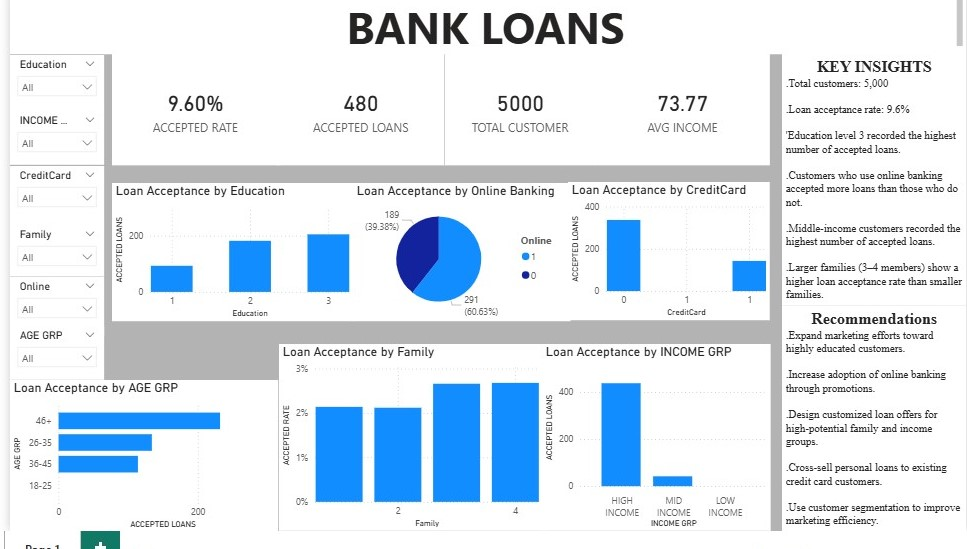

What the dashboard file says about the page in this screenshot:
{"tool":"powerbi","page":{"name":"Page 1","canvas":[1280,720],"ordinal":0},"visuals":[{"type":"card","fields":{"Values":["Data.TOTAL CUSTOMER"]},"box":[582.2,81.2,200.9,148.6],"z":0},{"type":"textbox","box":[0,0,1280,81.7],"z":1000},{"type":"card","fields":{"Values":["Data.ACCEPTED LOANS"]},"box":[357.8,81.2,224.3,148.6],"z":2000},{"type":"card","fields":{"Values":["Data.ACCEPTED RATE"]},"box":[136.3,81.2,223,148.6],"z":3000},{"type":"card","fields":{"Values":["Data.AVG INCOME"]},"box":[783.1,81.2,234,148.6],"z":4000},{"type":"textbox","box":[1033.3,81.7,246.7,336.7],"z":5000},{"type":"columnChart","title":" Loan Acceptance by Education","fields":{"Y":["Data.ACCEPTED LOANS"],"Category":["Data.Education"]},"box":[136.1,253.6,322.5,184.8],"z":6000},{"type":"columnChart","title":" Loan Acceptance  by Family","fields":{"Y":["Data.ACCEPTED RATE"],"Category":["Data.Family"]},"box":[359.5,470.3,352.8,250.3],"z":7000},{"type":"clusteredBarChart","title":" Loan Acceptance  by AGE GRP","fields":{"Category":["Data.AGE GRP"],"Y":["Data.ACCEPTED LOANS"]},"box":[0,517.4,359.5,203.3],"z":8000},{"type":"pieChart","title":" Loan Acceptance  by Online Banking","fields":{"Category":["Data.Online"],"Y":["Data.ACCEPTED LOANS"]},"box":[458.6,253.6,290.6,184.8],"z":9000},{"type":"clusteredColumnChart","title":" Loan Acceptance  by CreditCard","fields":{"Category":["Data.CreditCard"],"Y":["Data.ACCEPTED LOANS"]},"box":[746.7,253.3,270,185],"z":10000},{"type":"slicer","fields":{"Values":["Data.Education"]},"box":[0,82.3,126,75.6],"z":11000},{"type":"clusteredColumnChart","title":" Loan Acceptance by INCOME GRP","fields":{"Category":["Data.INCOME GRP"],"Y":["Data.ACCEPTED LOANS"]},"box":[712.2,470.3,305.7,250.3],"z":12000},{"type":"slicer","fields":{"Values":["Data.INCOME GRP"]},"box":[0,157.9,126,72.2],"z":13000},{"type":"slicer","fields":{"Values":["Data.Family"]},"box":[0,310.8,126,68.9],"z":14000},{"type":"slicer","fields":{"Values":["Data.CreditCard"]},"box":[0,231.8,126,79],"z":15000},{"type":"slicer","fields":{"Values":["Data.Online"]},"box":[0,379.6,126,79],"z":16000},{"type":"slicer","fields":{"Values":["Data.AGE GRP"]},"box":[0,445.1,126,72.2],"z":17000},{"type":"textbox","box":[1033.3,418.3,246.7,301.7],"z":18000}]}

Visuals, with their boxes in screenshot pixels (x1, y1, x2, y2), scaled from the page's 1280x720 canvas onto the 967x549 screenshot:
card - Data.TOTAL CUSTOMER: box(440, 62, 592, 175)
textbox: box(0, 0, 966, 62)
card - Data.ACCEPTED LOANS: box(270, 62, 440, 175)
card - Data.ACCEPTED RATE: box(103, 62, 271, 175)
card - Data.AVG INCOME: box(592, 62, 768, 175)
textbox: box(781, 62, 966, 319)
" Loan Acceptance by Education" columnChart: box(103, 193, 346, 334)
" Loan Acceptance  by Family" columnChart: box(272, 359, 538, 548)
" Loan Acceptance  by AGE GRP" clusteredBarChart: box(0, 395, 272, 548)
" Loan Acceptance  by Online Banking" pieChart: box(346, 193, 566, 334)
" Loan Acceptance  by CreditCard" clusteredColumnChart: box(564, 193, 768, 334)
slicer - Data.Education: box(0, 63, 95, 120)
" Loan Acceptance by INCOME GRP" clusteredColumnChart: box(538, 359, 769, 548)
slicer - Data.INCOME GRP: box(0, 120, 95, 175)
slicer - Data.Family: box(0, 237, 95, 290)
slicer - Data.CreditCard: box(0, 177, 95, 237)
slicer - Data.Online: box(0, 289, 95, 350)
slicer - Data.AGE GRP: box(0, 339, 95, 394)
textbox: box(781, 319, 966, 548)
